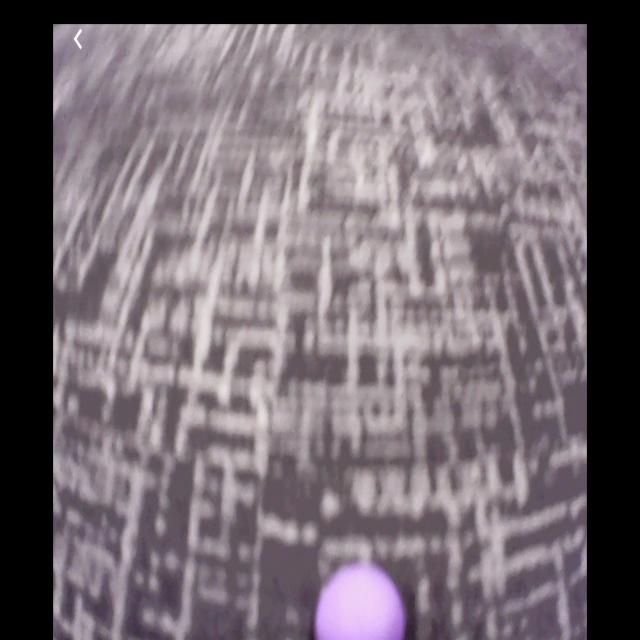ball: (316, 567, 408, 640)
